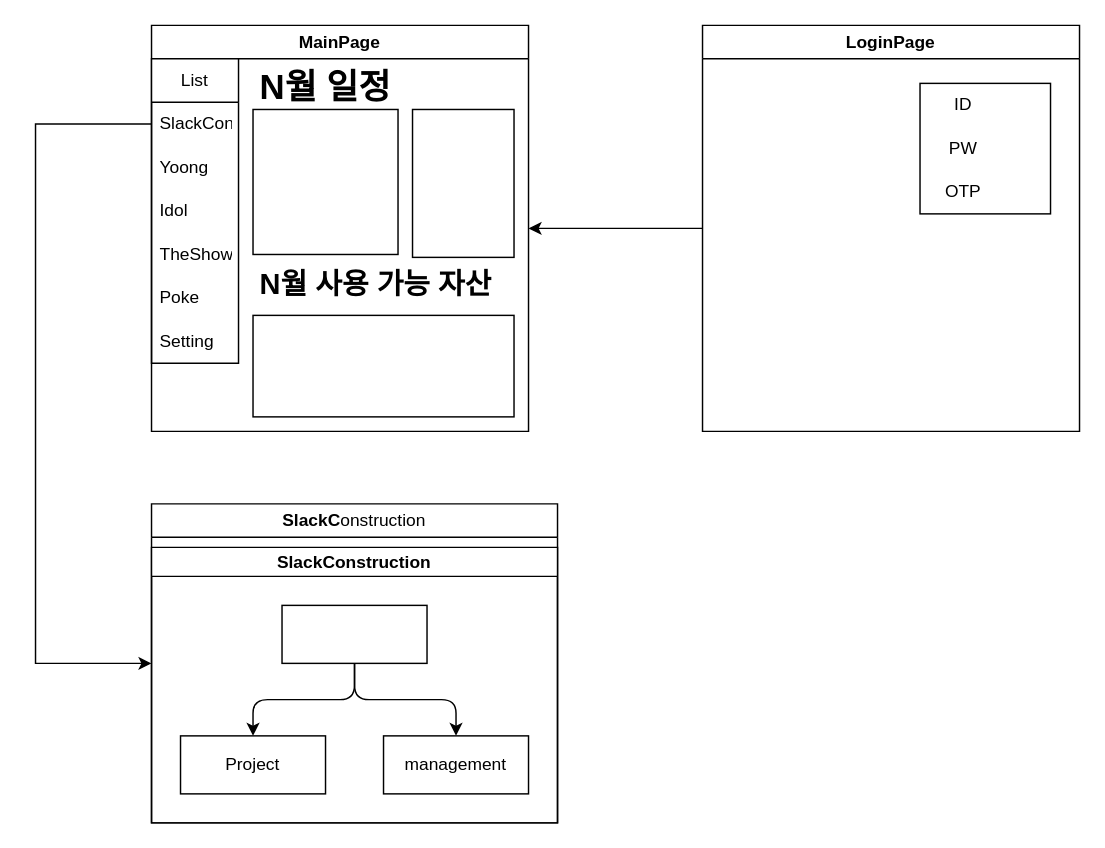
The diagram is 1105 pixels wide and 848 high, and some of its shapes have lost their labels. Each missing label, with the centre of its shape:
MyProject: pixel 354 633
내용: pixel 462 182
달력: pixel 325 181
자산 정보: pixel 383 365
